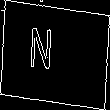N_S: (42, 29, 68, 81)
